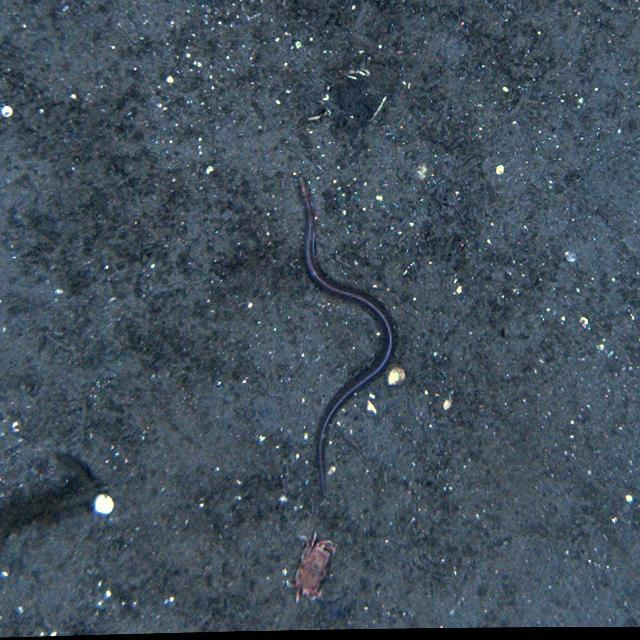crab: (295, 530, 335, 602)
